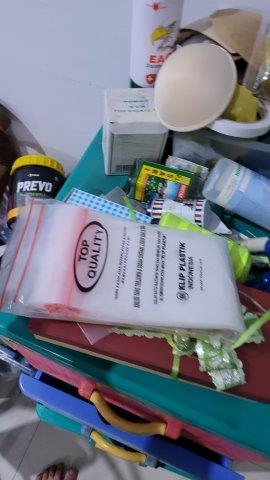plastik: (1, 197, 246, 337)
